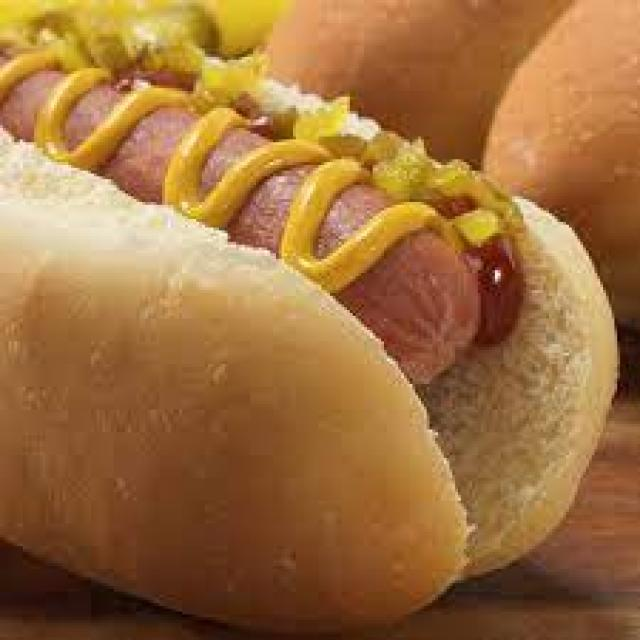Hot Dog: (0, 0, 600, 620)
